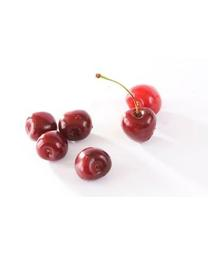cherry: (121, 108, 157, 144), (75, 147, 113, 181), (125, 84, 161, 118), (59, 110, 93, 141), (36, 130, 69, 161), (25, 112, 59, 140)
